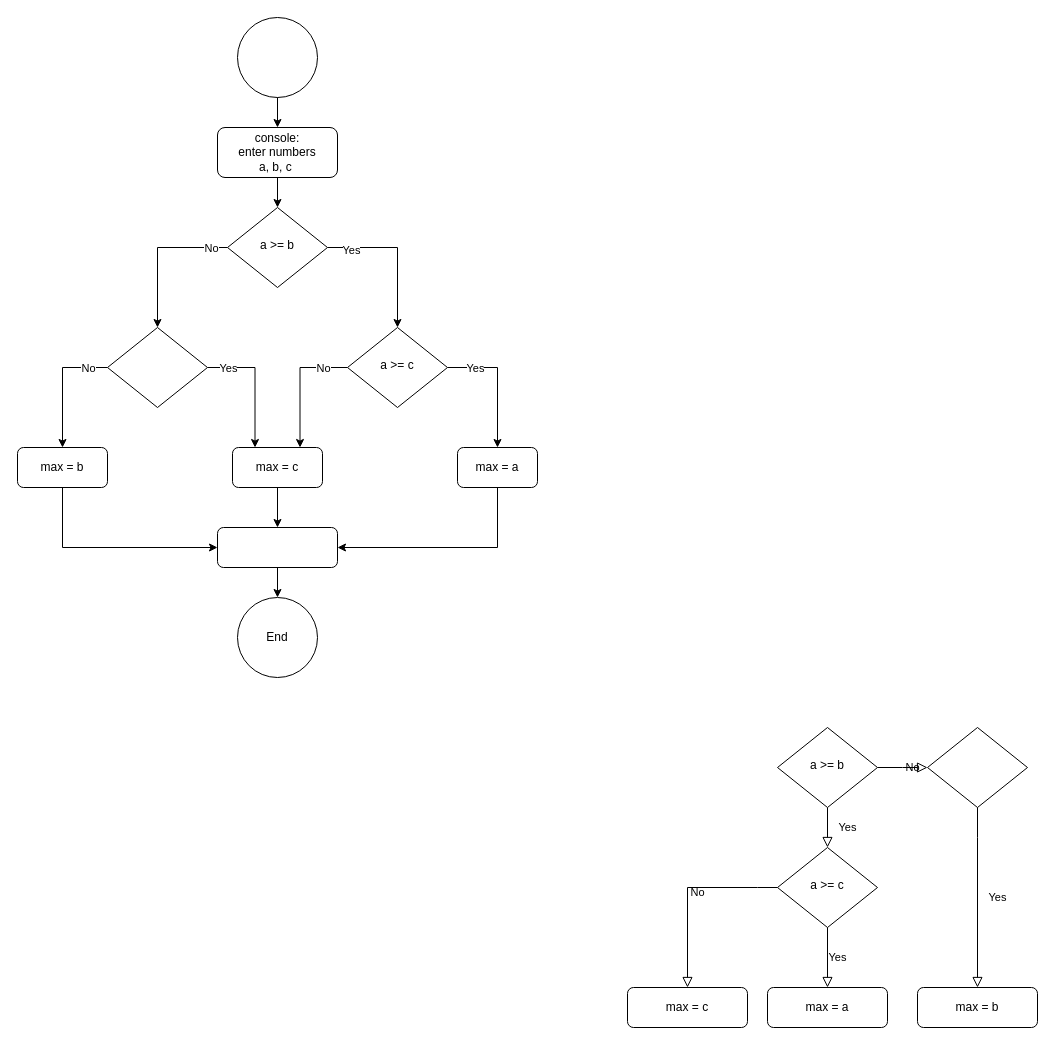
Some shapes in this 1055 by 1045 pixel diagram are drawn without their labels. Here are the shapes that lost their labels. From the top down, the centre of each, then its label:
At pixel 277 57: "Start".
At pixel 157 367: "b <= c".
At pixel 277 547: "Consol print: max".
At pixel 977 767: "b >= c".
